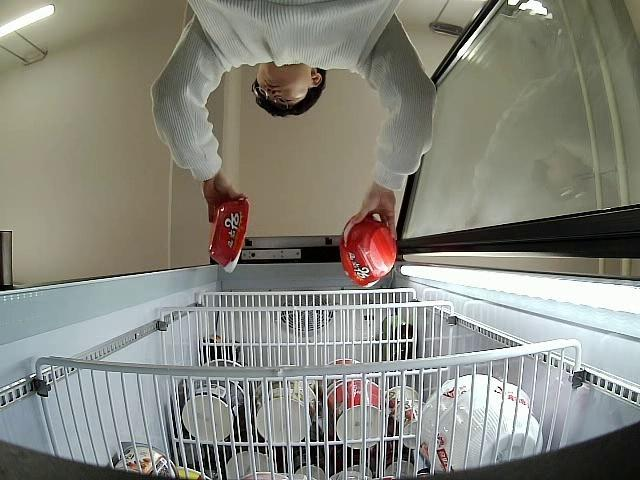10_wangTtukkeong: (341, 216, 396, 288), (206, 194, 248, 275)
